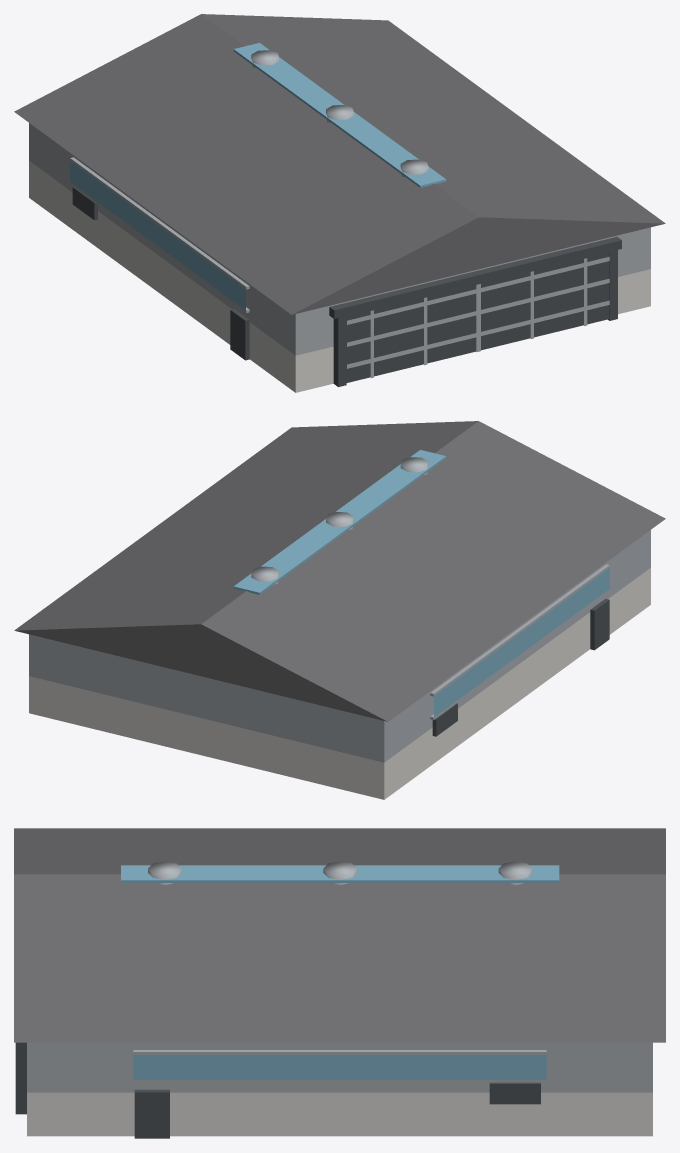
The model's file is hangar_small.glb.
3 renders of one model, top to bottom at view 1: azimuth 30°, elevation 25°; view 2: azimuth 150°, elevation 25°; view 3: azimuth 270°, elevation 25°, orthographic. The views are drawn at different scales.
Parts seen in each view (by area): view 1: hangar_roof, Merged_WindowFrame, Merged_PropsMetal, hangar_base, Merged_FacadeGlass; view 2: hangar_roof, Merged_PropsMetal, hangar_base, Merged_FacadeGlass, Merged_WindowFrame; view 3: hangar_roof, hangar_base, Merged_PropsMetal, Merged_FacadeGlass, Merged_WindowFrame.
Part boxes in pixels (left/top/right/bottom): hangar_roof: left=14, top=14, right=665, bottom=314; Merged_WindowFrame: left=72, top=187, right=621, bottom=386; Merged_PropsMetal: left=29, top=50, right=650, bottom=378; hangar_base: left=29, top=161, right=650, bottom=392; Merged_FacadeGlass: left=70, top=43, right=446, bottom=310; hangar_roof: left=14, top=421, right=665, bottom=721; Merged_PropsMetal: left=29, top=457, right=650, bottom=762; hangar_base: left=29, top=568, right=650, bottom=799; Merged_FacadeGlass: left=233, top=450, right=609, bottom=717; Merged_WindowFrame: left=432, top=598, right=609, bottom=736; hangar_roof: left=14, top=828, right=665, bottom=1042; hangar_base: left=27, top=1092, right=652, bottom=1136; Merged_PropsMetal: left=27, top=861, right=652, bottom=1092; Merged_FacadeGlass: left=121, top=865, right=559, bottom=1079; Merged_WindowFrame: left=15, top=1042, right=540, bottom=1138.
Size of the model in its own units: 31.6 by 11.4 by 40.61.
